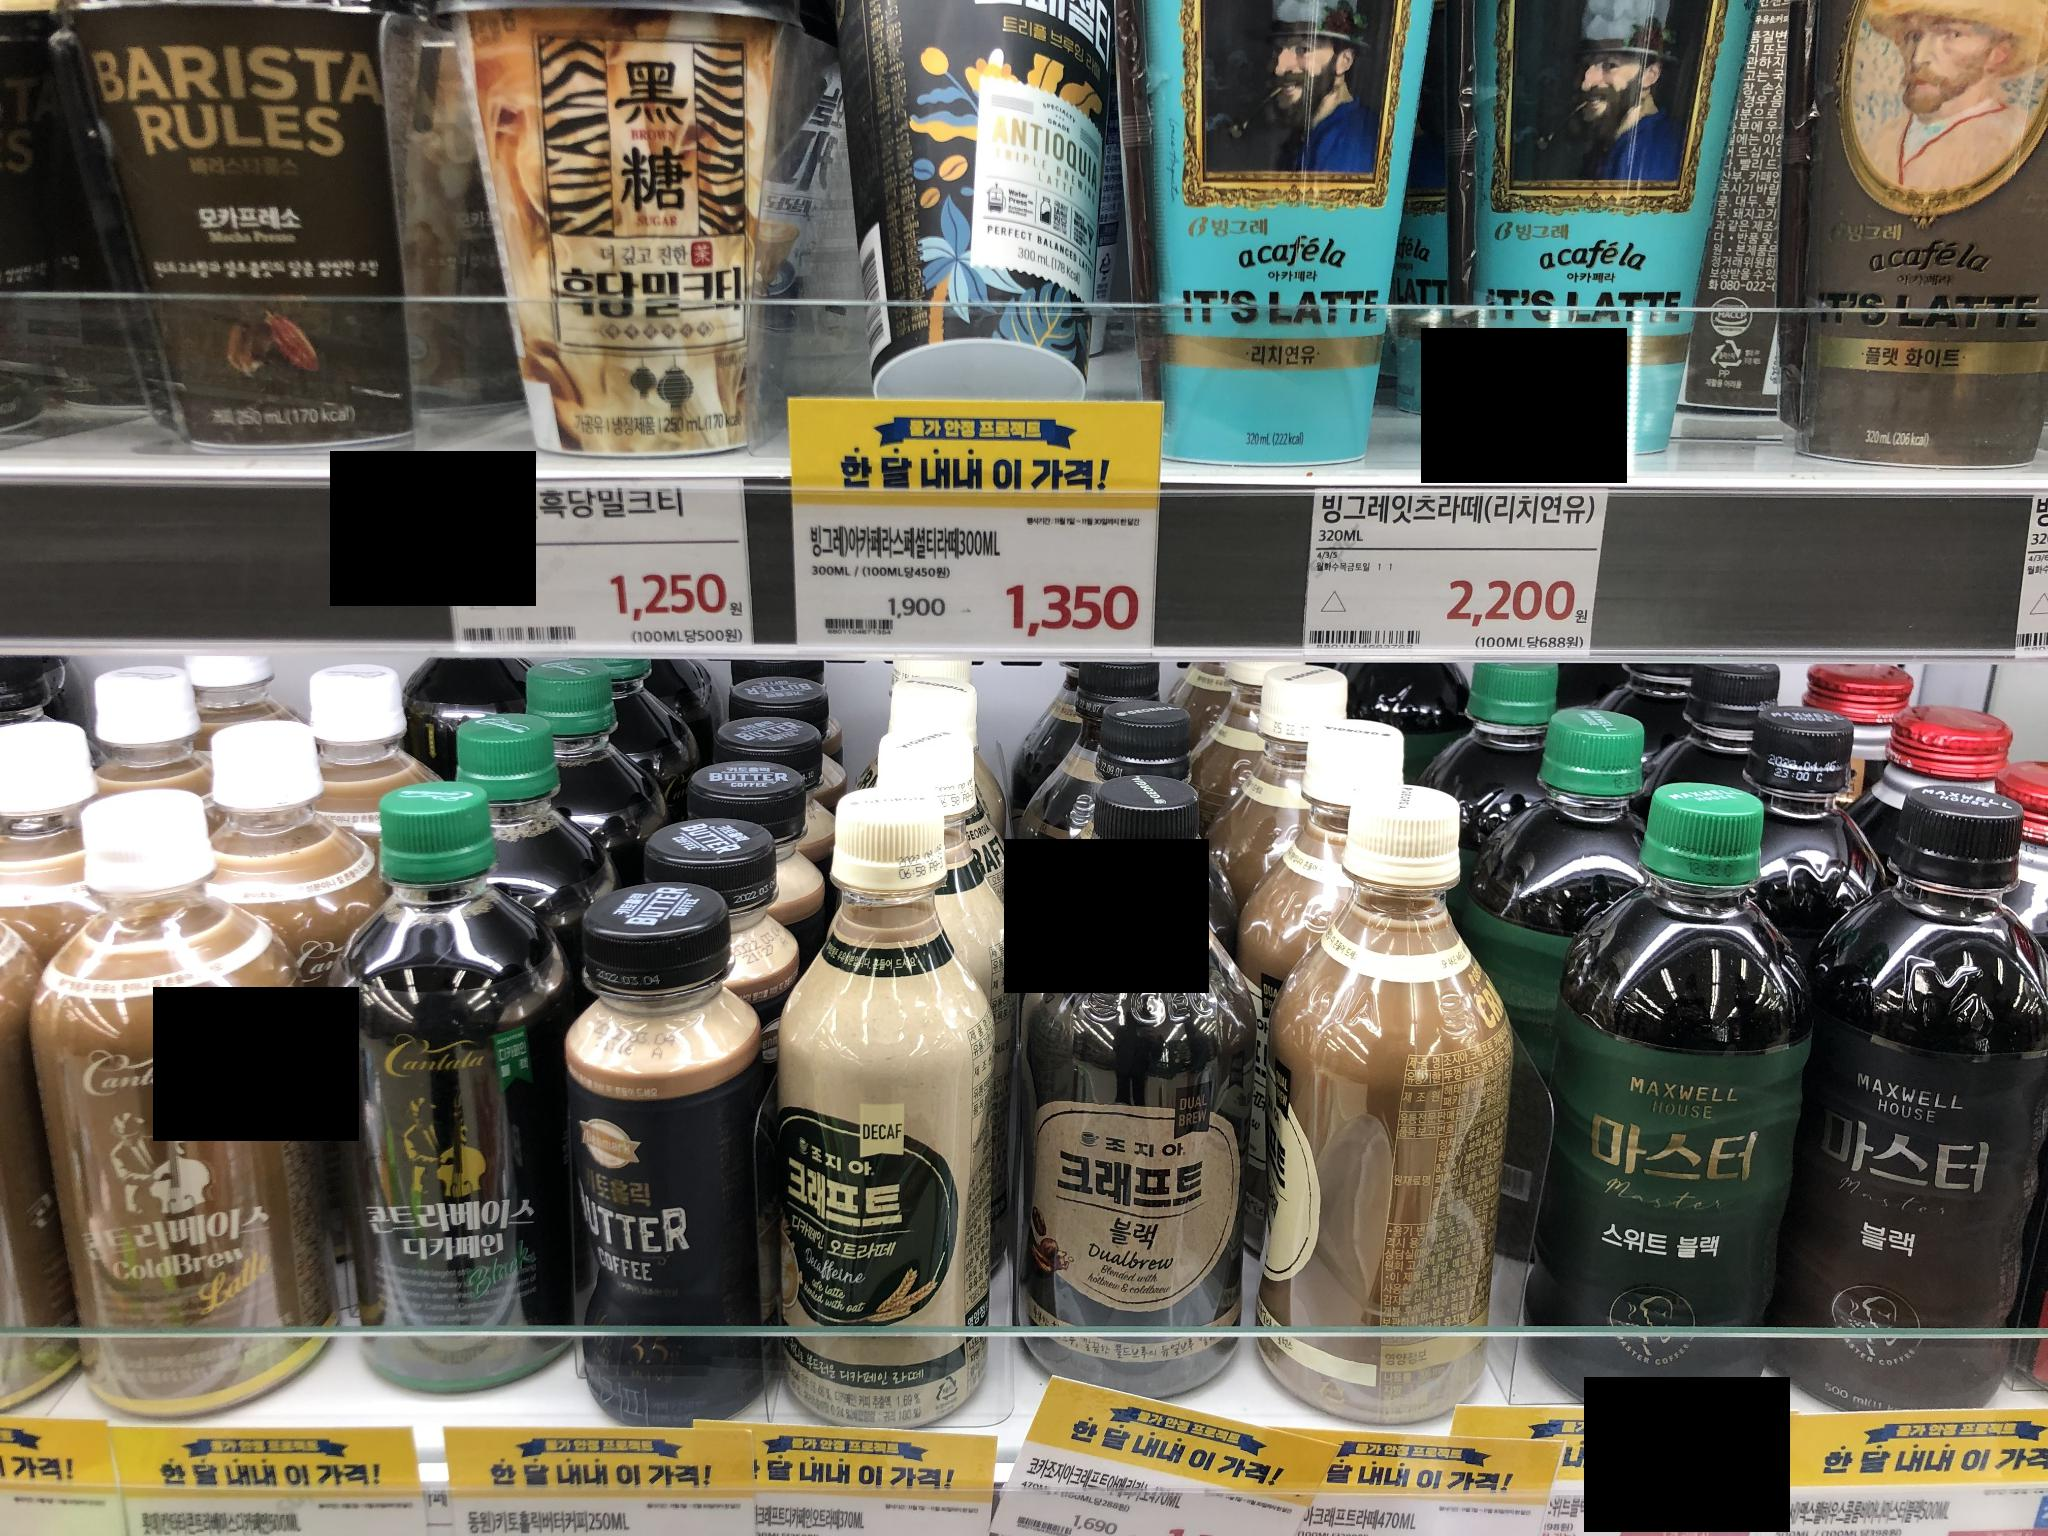georgiacraft_black: (1043, 771, 1255, 1371)
